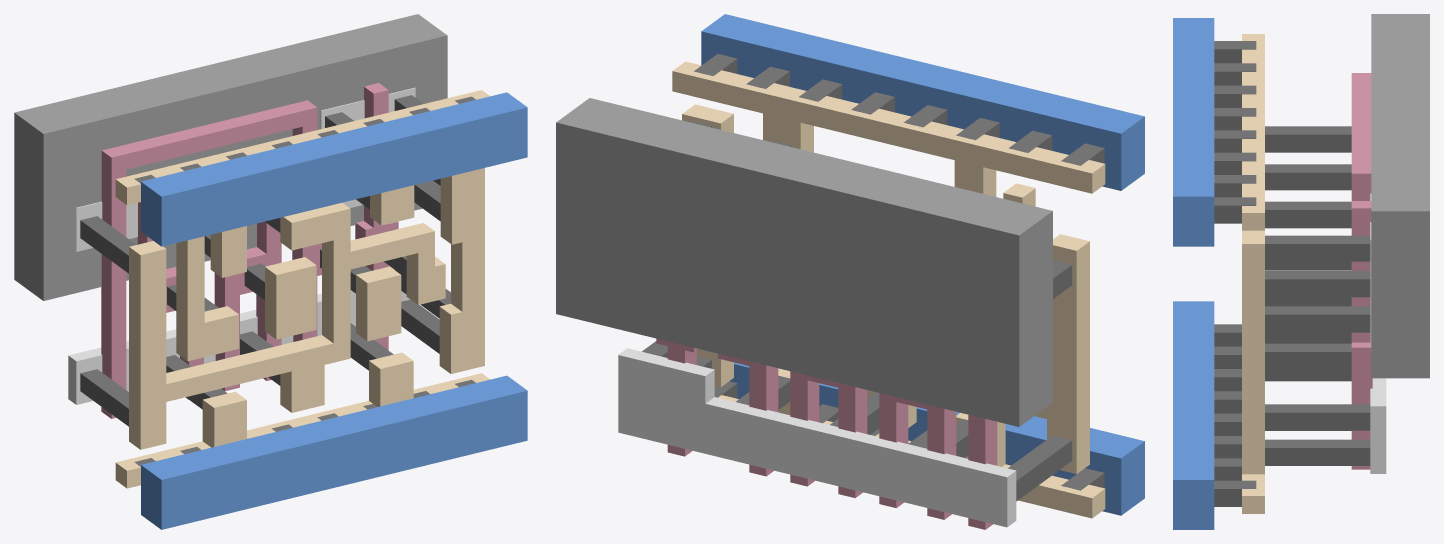
Rendered from sky130_fd_sc_hd__maj3_1.gds.gltf.
3 renders of one model, left to right at view 1: azimuth 30°, elevation 25°; view 2: azimuth 150°, elevation 25°; view 3: azimuth 270°, elevation 25°, orthographic. The views are drawn at different scales.
Visible parts, largest first — view 1: sky130_fd_sc_hd__maj3_1_li1, sky130_fd_sc_hd__maj3_1_met1, sky130_fd_sc_hd__maj3_1_nwell, sky130_fd_sc_hd__maj3_1_poly, sky130_fd_sc_hd__maj3_1_licon, sky130_fd_sc_hd__maj3_1_diff, sky130_fd_sc_hd__maj3_1_mcon; view 2: sky130_fd_sc_hd__maj3_1_nwell, sky130_fd_sc_hd__maj3_1_met1, sky130_fd_sc_hd__maj3_1_li1, sky130_fd_sc_hd__maj3_1_diff, sky130_fd_sc_hd__maj3_1_poly, sky130_fd_sc_hd__maj3_1_mcon, sky130_fd_sc_hd__maj3_1_licon; view 3: sky130_fd_sc_hd__maj3_1_licon, sky130_fd_sc_hd__maj3_1_nwell, sky130_fd_sc_hd__maj3_1_met1, sky130_fd_sc_hd__maj3_1_mcon, sky130_fd_sc_hd__maj3_1_li1, sky130_fd_sc_hd__maj3_1_poly, sky130_fd_sc_hd__maj3_1_diff.
Boxes of the visible parts, x1=… form: sky130_fd_sc_hd__maj3_1_li1: x1=115, y1=90, x2=489, y2=488; sky130_fd_sc_hd__maj3_1_met1: x1=141, y1=92, x2=527, y2=529; sky130_fd_sc_hd__maj3_1_nwell: x1=14, y1=14, x2=447, y2=300; sky130_fd_sc_hd__maj3_1_poly: x1=101, y1=83, x2=398, y2=418; sky130_fd_sc_hd__maj3_1_licon: x1=80, y1=95, x2=450, y2=426; sky130_fd_sc_hd__maj3_1_diff: x1=68, y1=87, x2=415, y2=404; sky130_fd_sc_hd__maj3_1_mcon: x1=134, y1=96, x2=475, y2=466; sky130_fd_sc_hd__maj3_1_nwell: x1=556, y1=98, x2=1052, y2=426; sky130_fd_sc_hd__maj3_1_met1: x1=701, y1=14, x2=1144, y2=515; sky130_fd_sc_hd__maj3_1_li1: x1=672, y1=61, x2=1105, y2=518; sky130_fd_sc_hd__maj3_1_diff: x1=618, y1=348, x2=1016, y2=527; sky130_fd_sc_hd__maj3_1_poly: x1=656, y1=338, x2=997, y2=529; sky130_fd_sc_hd__maj3_1_mcon: x1=694, y1=54, x2=1104, y2=490; sky130_fd_sc_hd__maj3_1_licon: x1=642, y1=121, x2=1072, y2=501; sky130_fd_sc_hd__maj3_1_licon: x1=1265, y1=126, x2=1370, y2=465; sky130_fd_sc_hd__maj3_1_nwell: x1=1371, y1=14, x2=1429, y2=378; sky130_fd_sc_hd__maj3_1_met1: x1=1173, y1=18, x2=1214, y2=529; sky130_fd_sc_hd__maj3_1_mcon: x1=1214, y1=41, x2=1256, y2=506; sky130_fd_sc_hd__maj3_1_li1: x1=1242, y1=34, x2=1264, y2=513; sky130_fd_sc_hd__maj3_1_poly: x1=1351, y1=73, x2=1372, y2=469; sky130_fd_sc_hd__maj3_1_diff: x1=1370, y1=193, x2=1386, y2=473.
Bounding box in the file's own units: 4.06 × 3.2 × 2.24.
